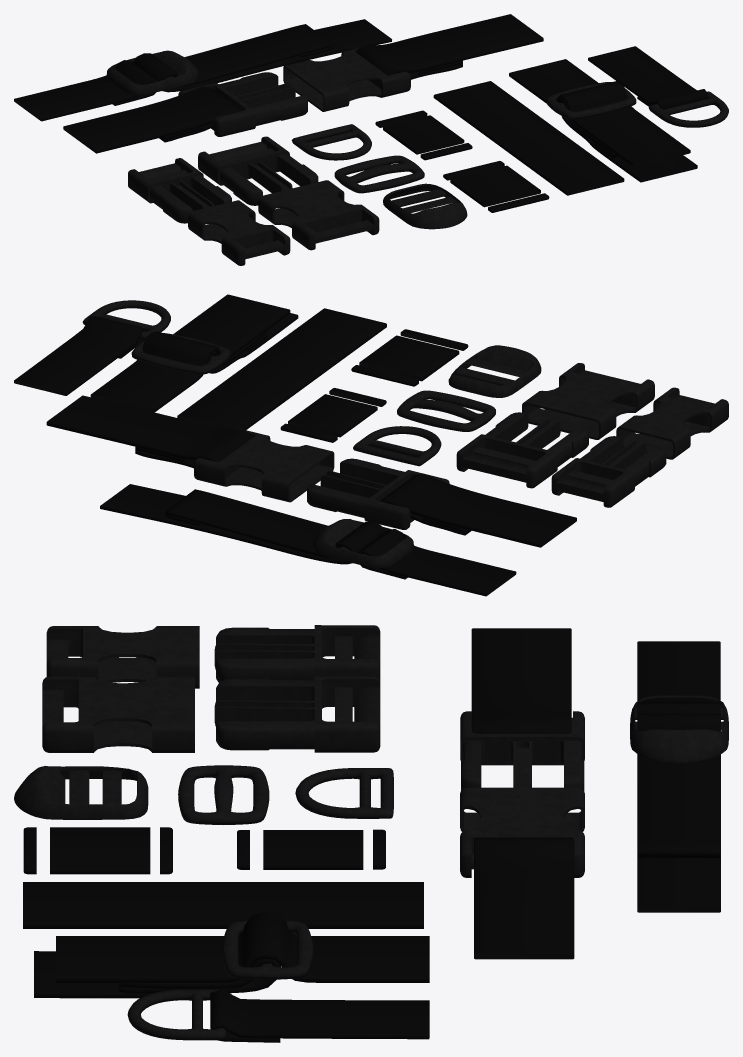
The model's file is strap_buckles_kit.glb.
The picture shows the model from 3 angles, top to bottom: view 1: azimuth 30°, elevation 25°; view 2: azimuth 150°, elevation 25°; view 3: azimuth 270°, elevation 25°; orthographic projection. The views are drawn at different scales.
Visible parts, largest first — view 1: belt_3mm_preset_3, belt_middle_segment.005_18, belt_2cm_middle_segment.001_33, belt_middle_segment.013_27, belt_middle_segment_26, buckle_3cm_f_10, buckle_3cm_f.001_29, buckle_3cm_m_11, buckle_m.003_28, buckle_2cm_f_14, buckle_2cm_m_15, belt_2cm_middle_segment.003_41 (+12 smaller); view 2: belt_3mm_preset_3, belt_2cm_middle_segment.001_33, belt_middle_segment.005_18, belt_middle_segment.013_27, belt_middle_segment_26, buckle_3cm_m_11, buckle_3cm_f_10, buckle_3cm_f.001_29, buckle_2cm_m_15, belt_2cm_middle_segment.003_41, buckle_m.003_28, buckle_2cm_f_14 (+12 smaller); view 3: belt_3mm_preset_3, belt_middle_segment.005_18, belt_2cm_middle_segment.001_33, belt_middle_segment.013_27, buckle_3cm_m_11, buckle_3cm_f_10, belt_middle_segment_26, belt_2cm_middle_segment.003_41, buckle_2cm_m_15, buckle_2cm_f_14, buckle_3cm_f.001_29, buckle_m.003_28 (+10 smaller).
Part boxes in pixels (<box>): belt_3mm_preset_3: <box>433,81,624,195</box>; belt_middle_segment.005_18: <box>509,59,690,166</box>; belt_2cm_middle_segment.001_33: <box>133,19,391,92</box>; belt_middle_segment.013_27: <box>356,14,543,79</box>; belt_middle_segment_26: <box>63,86,241,153</box>; buckle_3cm_f_10: <box>258,180,379,250</box>; buckle_3cm_f.001_29: <box>283,47,410,111</box>; buckle_3cm_m_11: <box>198,136,318,205</box>; buckle_m.003_28: <box>178,72,307,136</box>; buckle_2cm_f_14: <box>188,200,290,265</box>; buckle_2cm_m_15: <box>128,158,231,223</box>; belt_2cm_middle_segment.003_41: <box>588,46,708,109</box>; belt_3mm_preset_3: <box>177,308,386,429</box>; belt_2cm_middle_segment.001_33: <box>100,484,384,564</box>; belt_middle_segment.005_18: <box>90,294,290,412</box>; belt_middle_segment.013_27: <box>46,395,252,468</box>; belt_middle_segment_26: <box>379,473,576,547</box>; buckle_3cm_m_11: <box>456,412,588,488</box>; buckle_3cm_f_10: <box>522,363,654,439</box>; buckle_3cm_f.001_29: <box>194,429,334,502</box>; buckle_2cm_m_15: <box>551,436,666,507</box>; belt_2cm_middle_segment.003_41: <box>14,316,146,395</box>; buckle_m.003_28: <box>307,458,449,529</box>; buckle_2cm_f_14: <box>616,387,728,459</box>; belt_3mm_preset_3: <box>23,882,423,928</box>; belt_middle_segment.005_18: <box>56,912,429,982</box>; belt_2cm_middle_segment.001_33: <box>637,713,720,912</box>; belt_middle_segment.013_27: <box>474,838,574,959</box>; buckle_3cm_m_11: <box>214,676,380,752</box>; buckle_3cm_f_10: <box>42,676,194,752</box>; belt_middle_segment_26: <box>471,628,571,733</box>; belt_2cm_middle_segment.003_41: <box>210,989,429,1042</box>; buckle_2cm_m_15: <box>214,625,380,682</box>; buckle_2cm_f_14: <box>46,626,199,688</box>; buckle_3cm_f.001_29: <box>460,787,584,877</box>; buckle_m.003_28: <box>460,711,584,790</box>.
Bounding box in the file's own units: 0.8885 × 0.0481 × 0.6861.
Materials: 2 (2 with a texture image).
